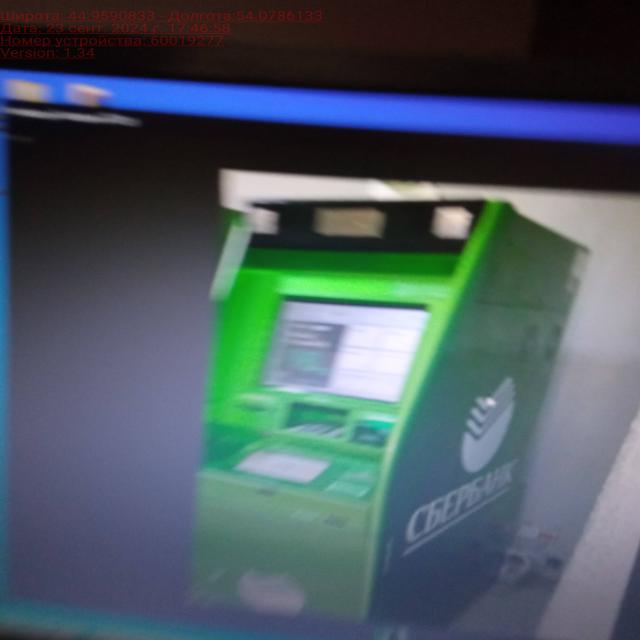bank: (205, 194, 593, 640)
